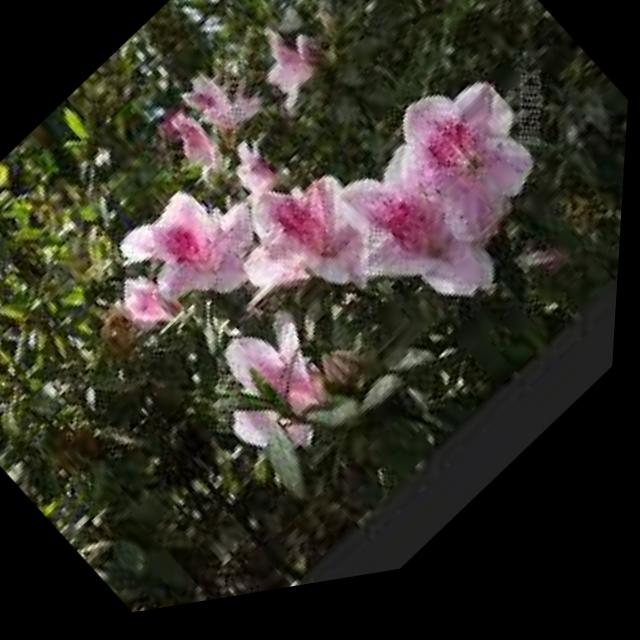Flower: (345, 42, 588, 307), (209, 129, 429, 371), (316, 128, 525, 360), (180, 290, 380, 512), (90, 153, 290, 369), (231, 13, 349, 141), (172, 65, 249, 152)
